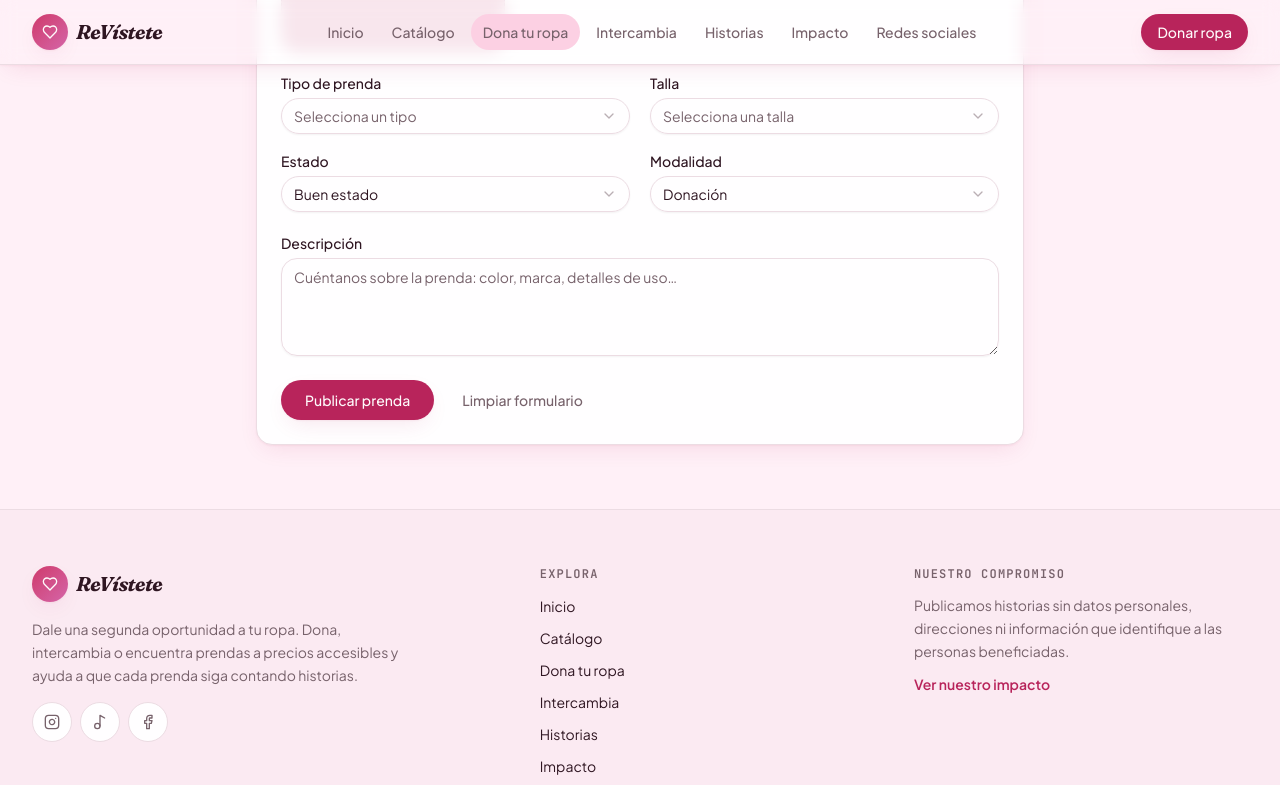
Test: GarmentForm › blocks submission and shows an error when required fields are missing
(page scrolled)
Click the button "Publicar prenda": (358, 400) [281,380,434,420]
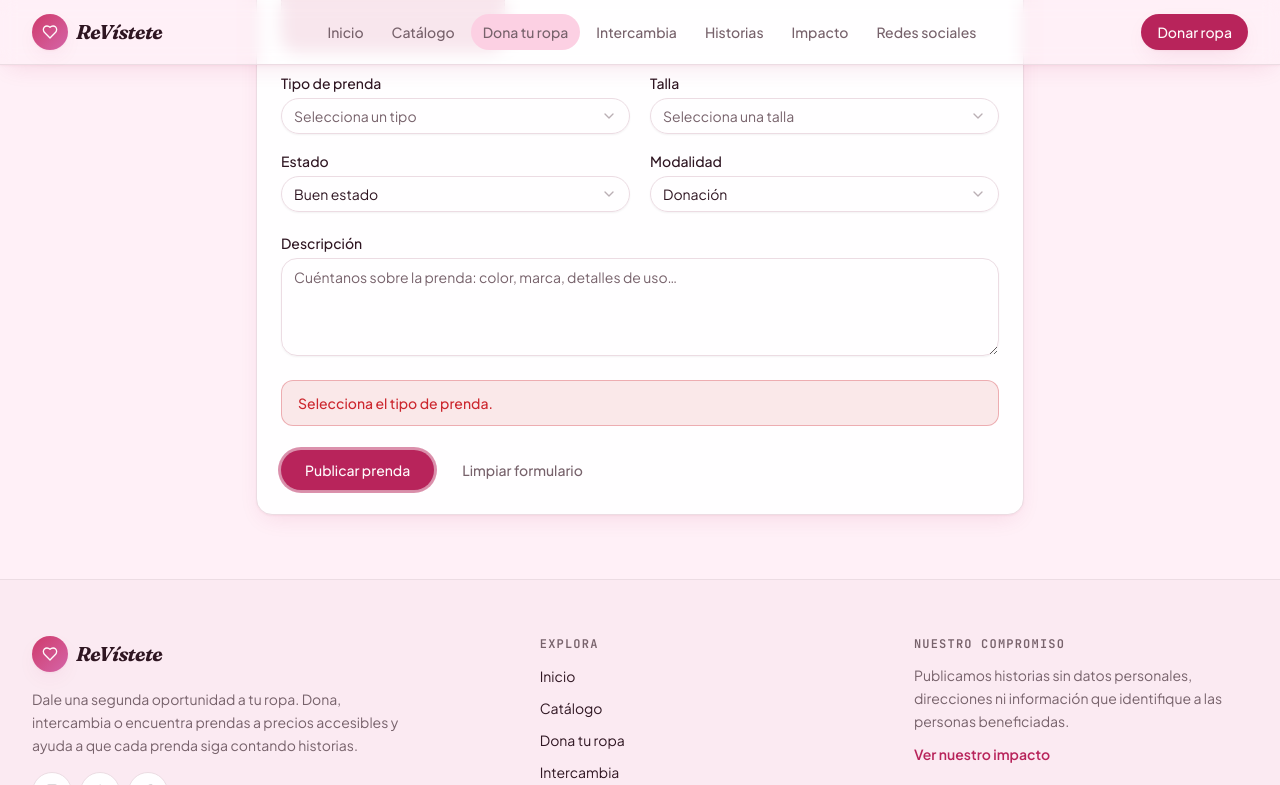
Check: the message reads "Selecciona el tipo de prenda.", box [298,394,493,412]
